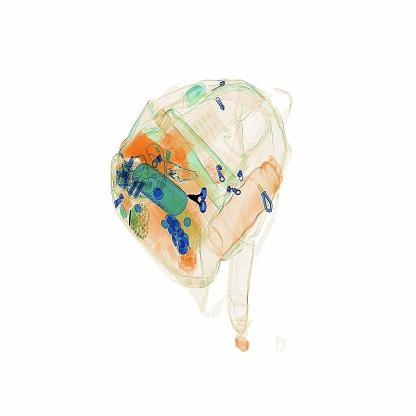gun: (178, 176, 223, 224)
